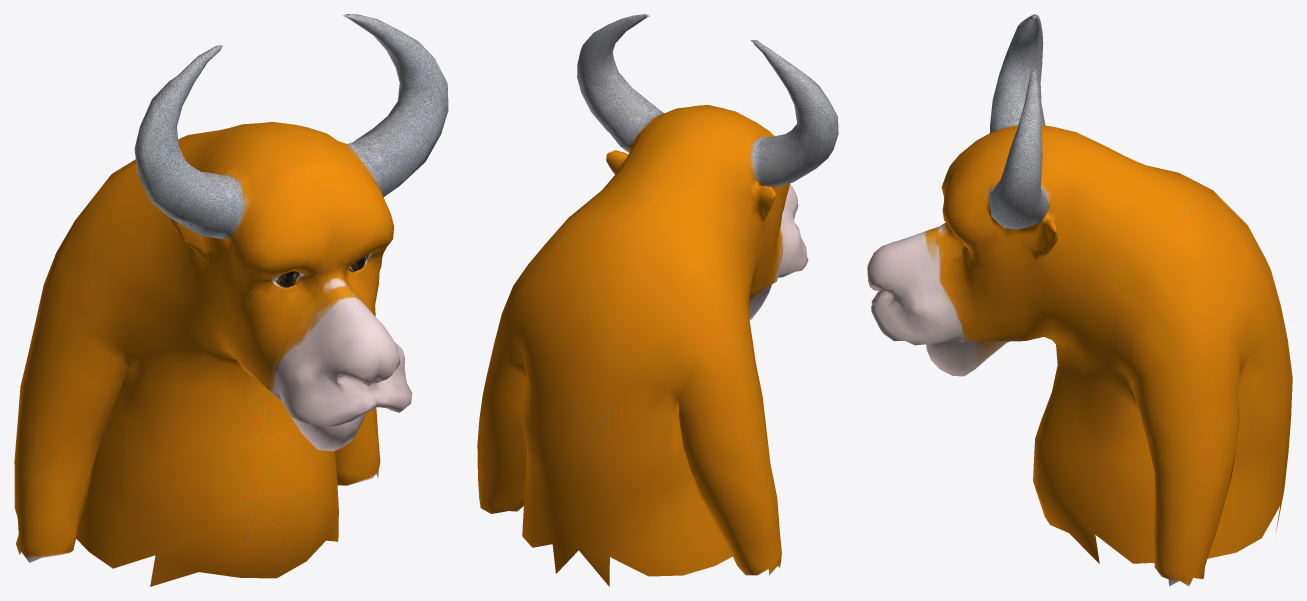
File: niubaba.glb
3 renders of one model, left to right at view 1: azimuth 30°, elevation 25°; view 2: azimuth 150°, elevation 25°; view 3: azimuth 270°, elevation 25°, orthographic. The views are drawn at different scales.
Parts seen in each view (by area): view 1: Head; view 2: Head; view 3: Head.
Part boxes in pixels (left/top/right/bottom): Head: left=14, top=14, right=448, bottom=586; Head: left=477, top=14, right=838, bottom=586; Head: left=867, top=14, right=1292, bottom=586.
Size of the model in its own units: 0.4102 by 0.6201 by 0.4971.
1 material, 1 textured.
